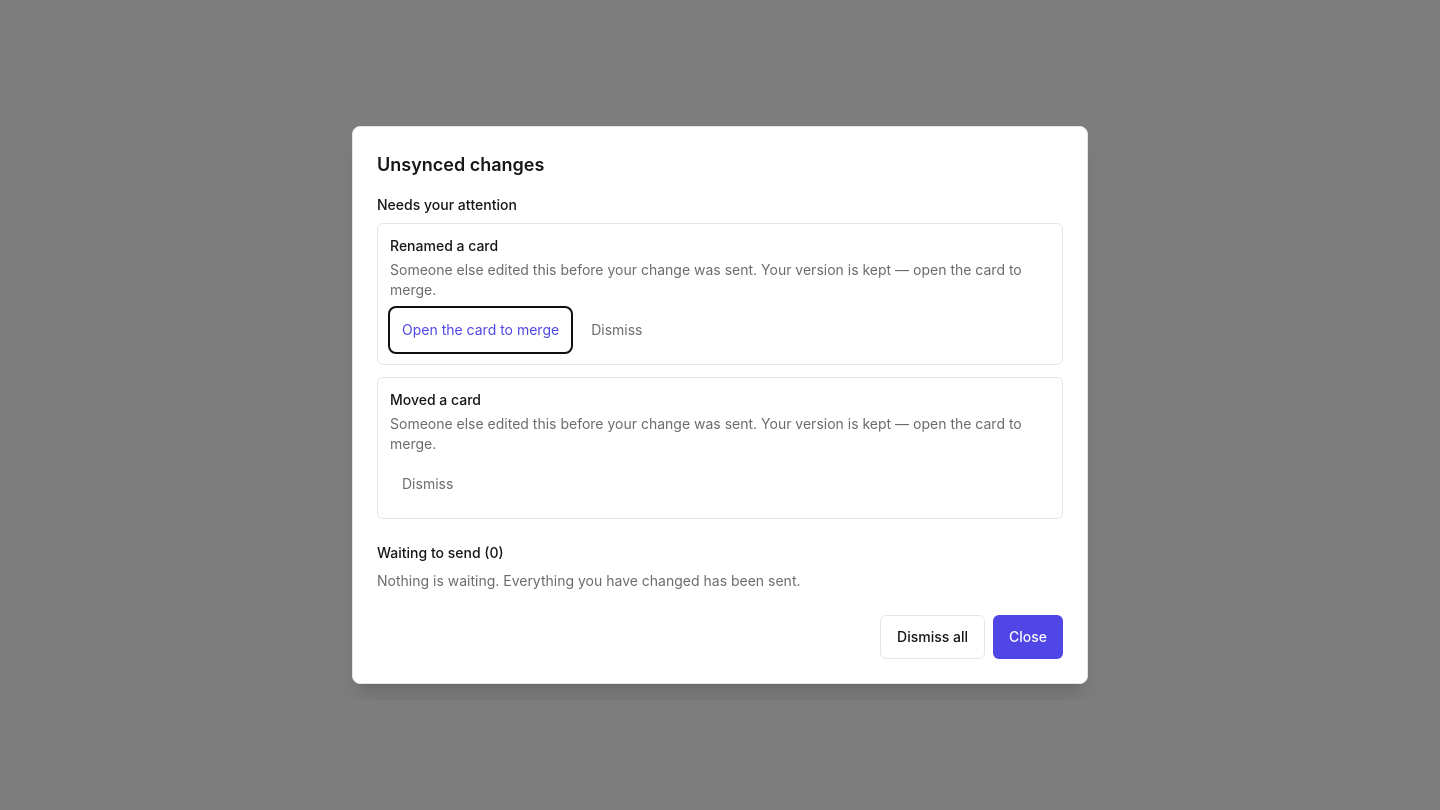
Test case: UnsyncedChangesPanel › clears every issue from the footer
Click the button "Dismiss all" at x=932, y=637, box [880,615,985,659]
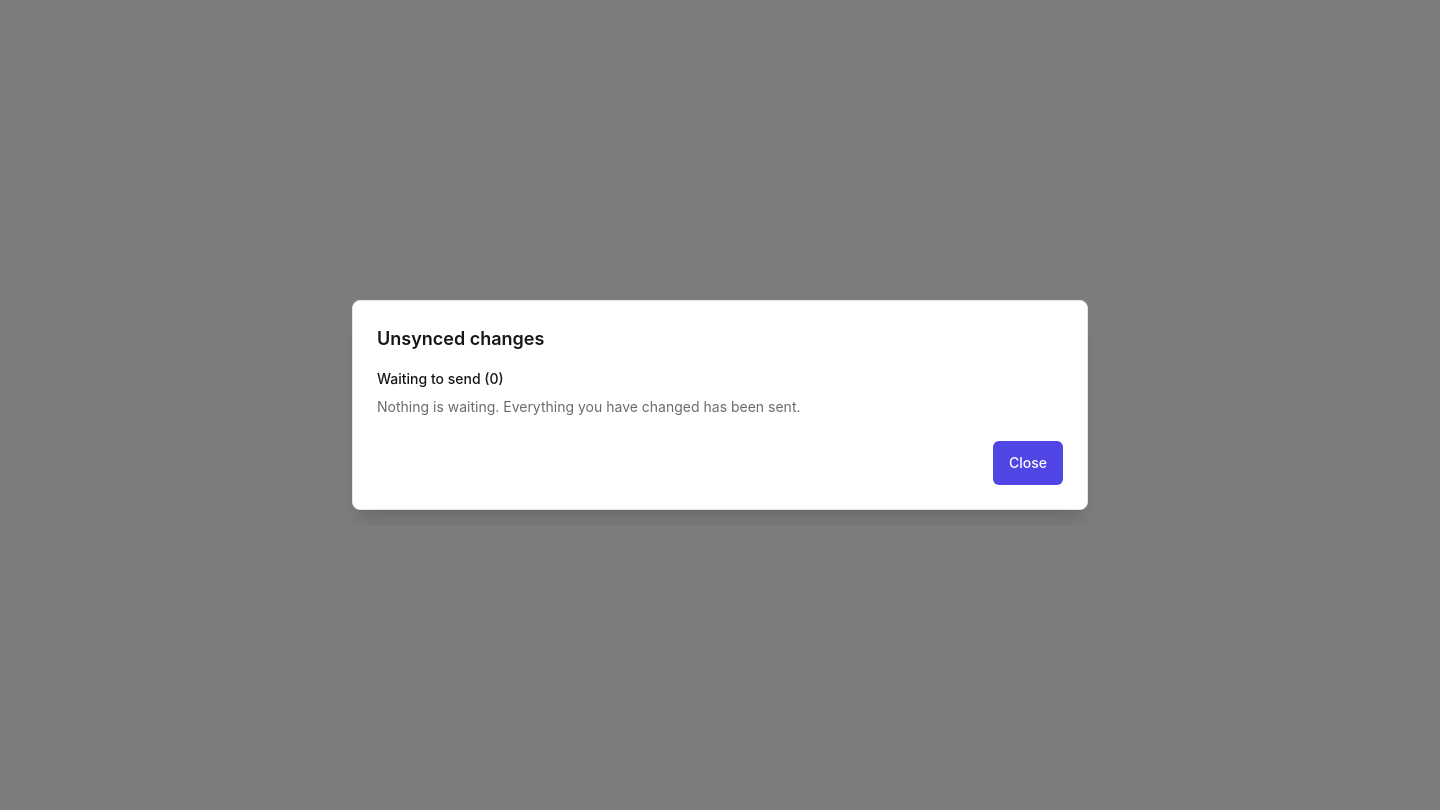
Check: the button "Dismiss all" is gone
